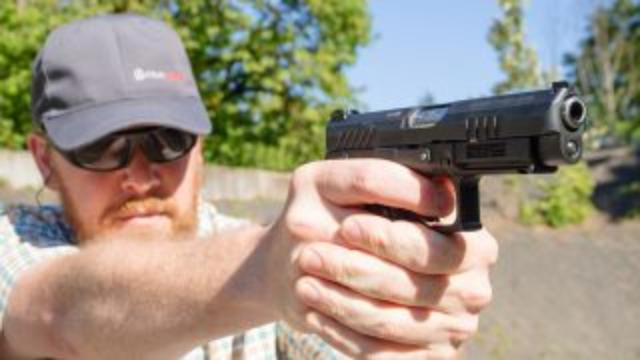handgun: (318, 76, 596, 244)
